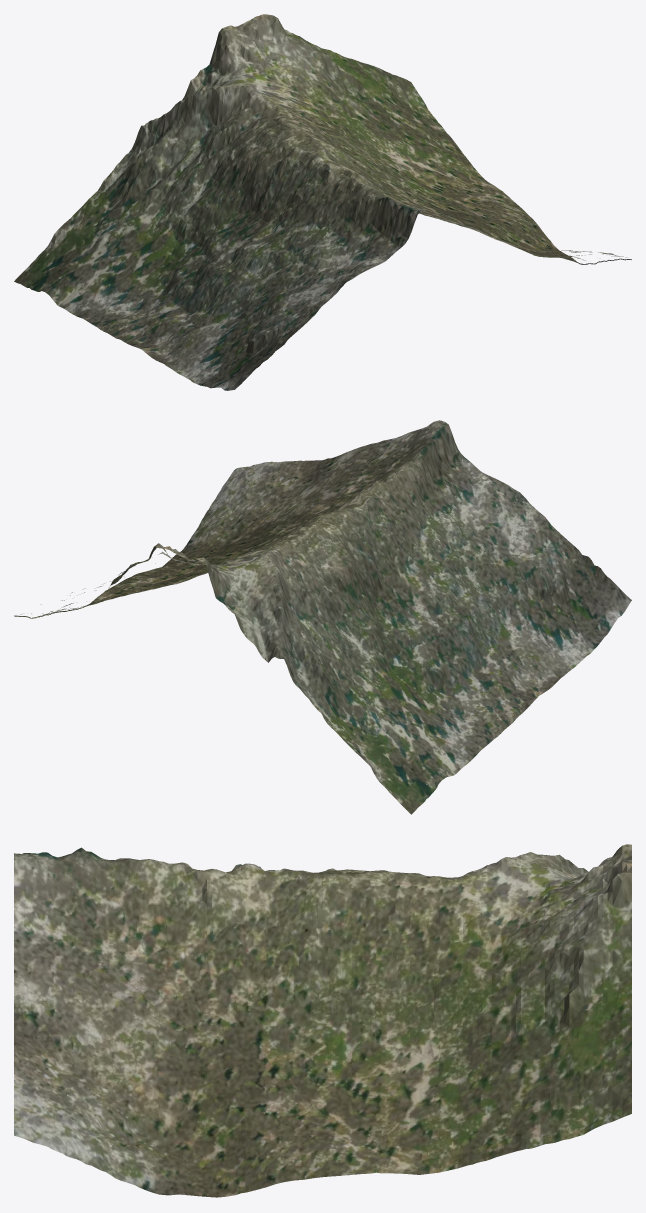
The picture shows the model from 3 angles, top to bottom: view 1: azimuth 30°, elevation 25°; view 2: azimuth 150°, elevation 25°; view 3: azimuth 270°, elevation 25°; orthographic projection. The views are drawn at different scales.
Bounding box in the file's own units: 500 × 250 × 481.
Materials: 1 (1 with a texture image).
